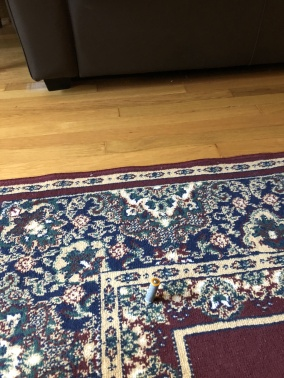battery: (134, 272, 172, 308)
